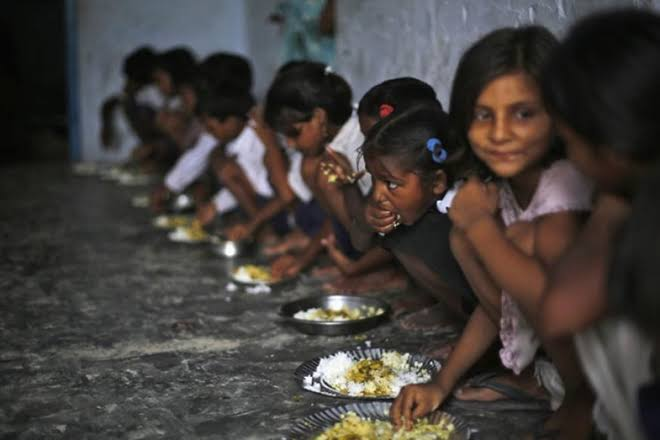student: (448, 40, 562, 178), (347, 119, 457, 232), (256, 64, 337, 161)
